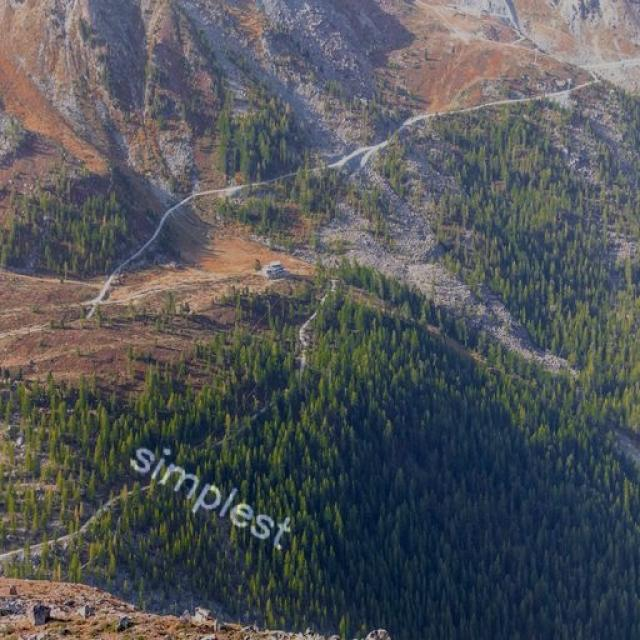watermark: (117, 431, 313, 557)
